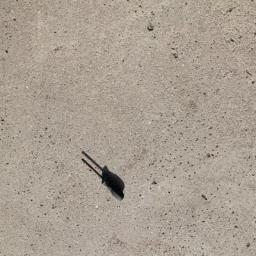FOD: (79, 149, 129, 203)
